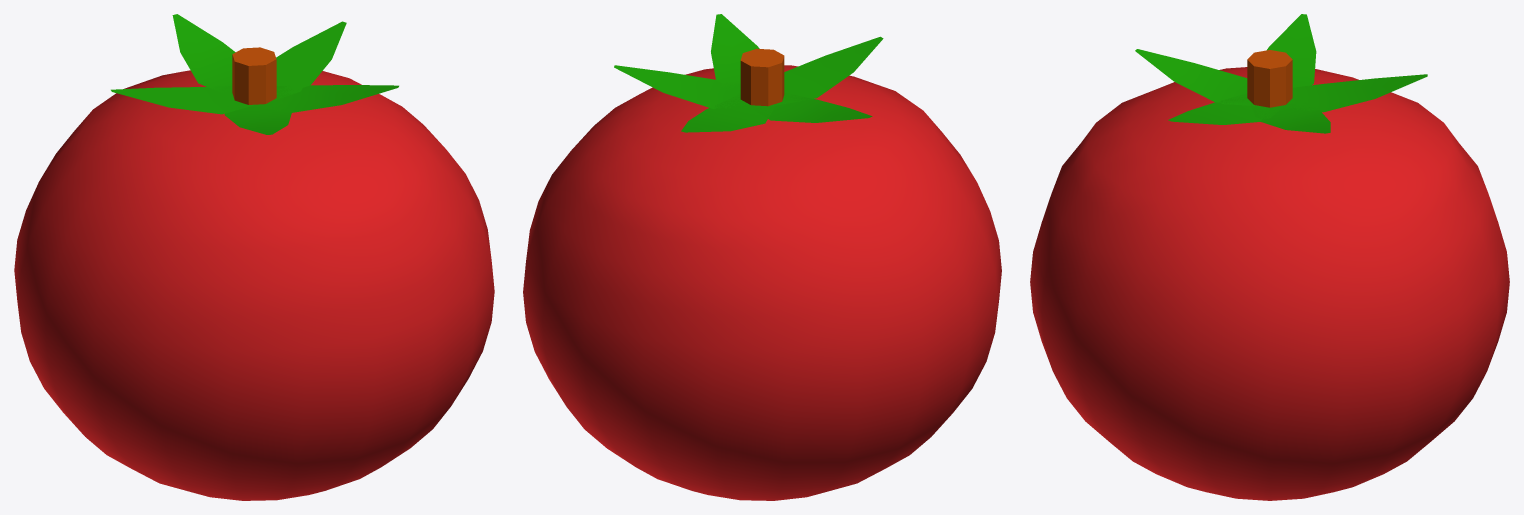
Rendered from tomatoes.fbx.
The picture shows the model from 3 angles, left to right: view 1: azimuth 30°, elevation 25°; view 2: azimuth 150°, elevation 25°; view 3: azimuth 270°, elevation 25°; orthographic projection.
Parts seen in each view (by area): view 1: TomatoExport.001; view 2: TomatoExport.001; view 3: TomatoExport.001.
Boxes of the visible parts, box(x1,y1,x2,y2) form: TomatoExport.001: box(14, 14, 494, 500); TomatoExport.001: box(523, 14, 1001, 500); TomatoExport.001: box(1030, 14, 1509, 500).
Bounding box in the file's own units: 113 × 108 × 113.
